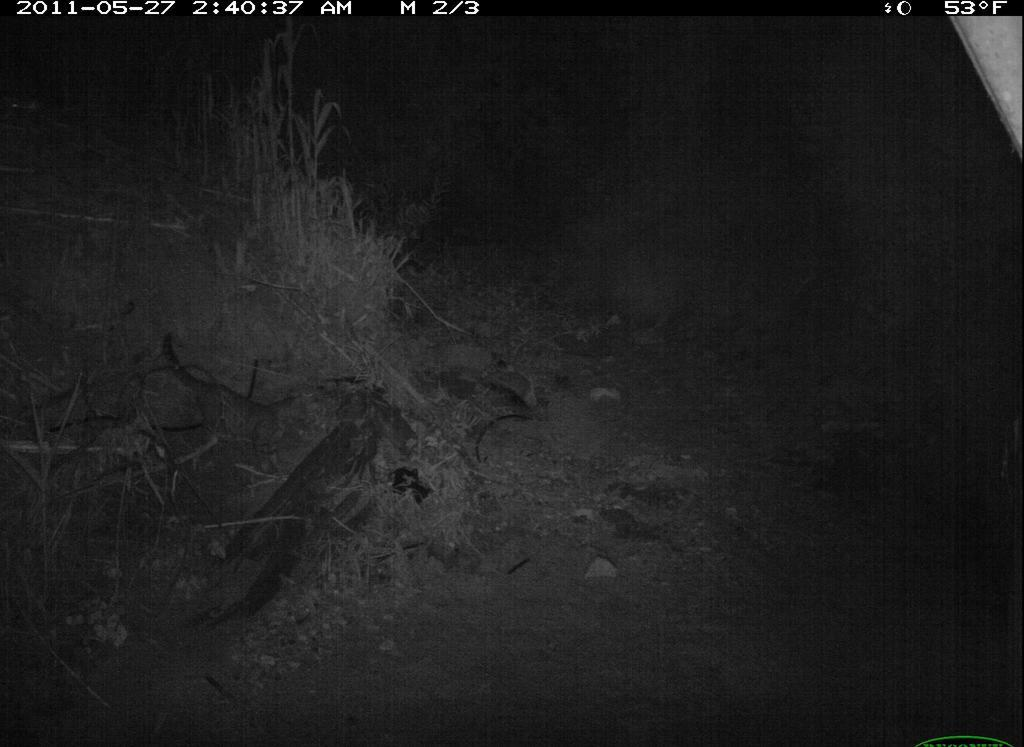cat: (158, 342, 314, 466)
